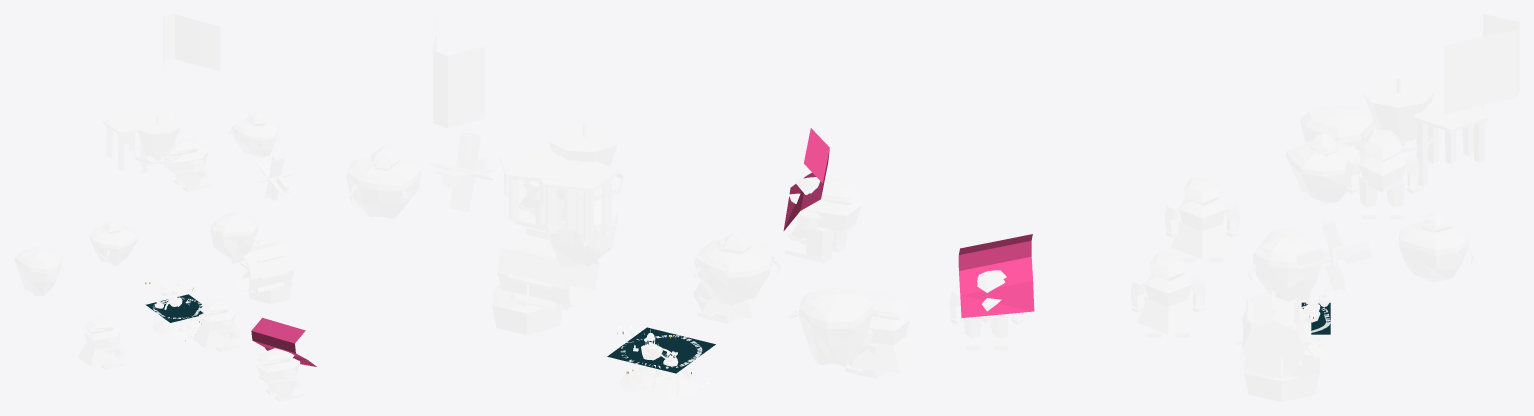
File: ile-archipel-v5-leger.glb
3 views of the same model, side by side, from view 1: azimuth 30°, elevation 25°; view 2: azimuth 150°, elevation 25°; view 3: azimuth 270°, elevation 25° (orthographic). The views are drawn at different scales.
Parts seen in each view (by area): view 1: ile_anime4.025, ile_anime5.021, ile_copie0.020, ile_anime12.003, ile_anime11.005, ile_anime9.005, ile_copie1.014, ile_anime8.005, ile_anime0.033, ile_anime10.005, ile_anime7.005, ile_banniere0.019 (+6 smaller); view 2: ile_anime5.021, ile_anime9.005, ile_anime11.005, ile_anime7.005, ile_anime10.005, ile_anime4.025, ile_copie0.020, ile_anime2.033, ile_anime1.033, ile_corps.033, ile_anime0.033, ile_anime8.005 (+6 smaller); view 3: ile_anime4.025, ile_banniere0.019, ile_anime5.021, ile_copie0.020, ile_anime12.003, ile_copie1.014, ile_anime10.005, ile_anime1.033, ile_anime8.005, ile_anime0.033, ile_anime7.005, ile_anime11.005 (+4 smaller).
Part boxes in pixels (<box>): ile_anime4.025: <box>163,14,220,70</box>; ile_anime5.021: <box>231,241,294,292</box>; ile_copie0.020: <box>78,316,127,370</box>; ile_anime12.003: <box>192,298,241,352</box>; ile_anime11.005: <box>256,348,303,401</box>; ile_anime9.005: <box>14,247,65,295</box>; ile_copie1.014: <box>164,138,211,192</box>; ile_anime8.005: <box>210,212,259,260</box>; ile_anime0.033: <box>133,114,181,164</box>; ile_anime10.005: <box>228,112,278,158</box>; ile_anime7.005: <box>89,220,138,266</box>; ile_banniere0.019: <box>251,318,316,366</box>; ile_anime5.021: <box>497,227,599,310</box>; ile_anime9.005: <box>788,287,873,366</box>; ile_anime11.005: <box>785,176,862,263</box>; ile_anime7.005: <box>692,232,781,305</box>; ile_anime10.005: <box>346,146,421,218</box>; ile_anime4.025: <box>432,19,484,128</box>; ile_copie0.020: <box>845,292,920,378</box>; ile_anime2.033: <box>541,161,617,242</box>; ile_anime1.033: <box>499,146,580,233</box>; ile_corps.033: <box>619,322,701,401</box>; ile_anime0.033: <box>548,121,623,200</box>; ile_anime8.005: <box>545,199,618,268</box>; ile_anime4.025: <box>1444,14,1519,114</box>; ile_banniere0.019: <box>958,234,1034,317</box>; ile_anime5.021: <box>1236,291,1311,378</box>; ile_copie0.020: <box>1164,177,1239,262</box>; ile_anime12.003: <box>1130,253,1205,337</box>; ile_copie1.014: <box>1345,130,1420,219</box>; ile_anime10.005: <box>1398,212,1474,282</box>; ile_anime1.033: <box>1413,97,1488,186</box>; ile_anime8.005: <box>1247,227,1321,301</box>; ile_anime0.033: <box>1361,77,1436,153</box>; ile_anime7.005: <box>1285,133,1360,203</box>; ile_anime11.005: <box>949,270,1023,350</box>.
Bounding box in the file's own units: 13.4 × 10.92 × 15.09.
